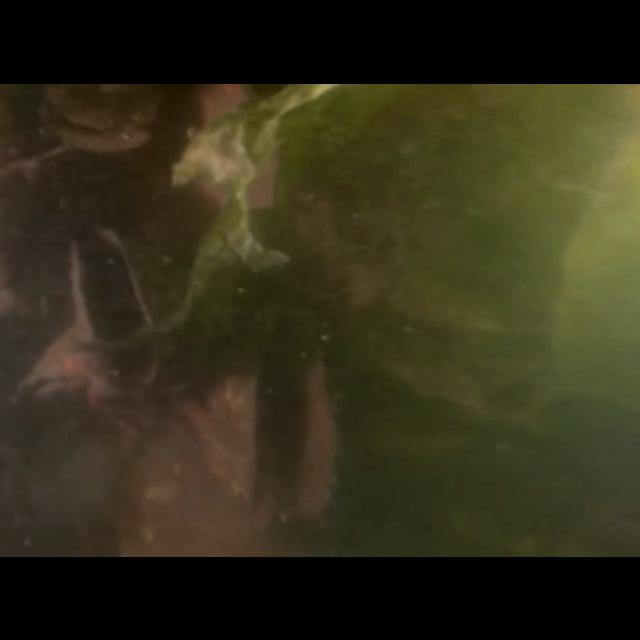Oyster-Open: (192, 320, 340, 522), (65, 220, 153, 356), (33, 82, 159, 154), (15, 319, 94, 399)
